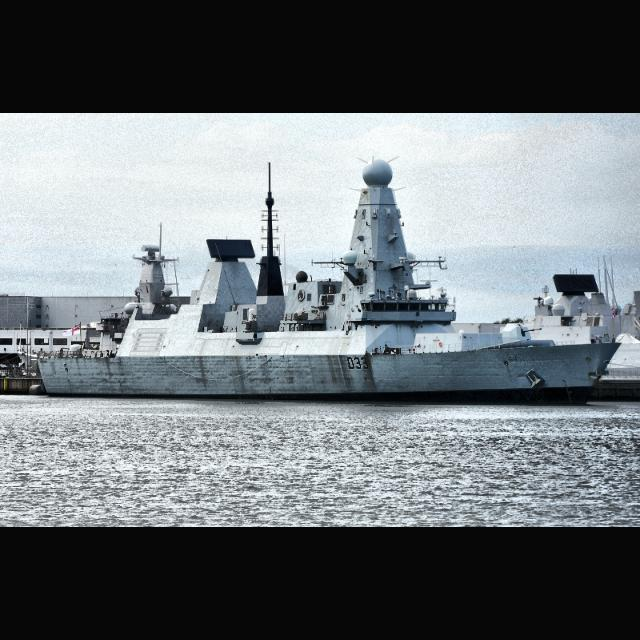combat_vessel: (35, 152, 622, 408)
